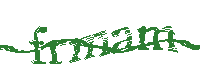a: (111, 26, 133, 53)
f: (29, 25, 49, 67)
m: (71, 28, 110, 63), (136, 24, 178, 56)
r: (47, 39, 69, 65)
